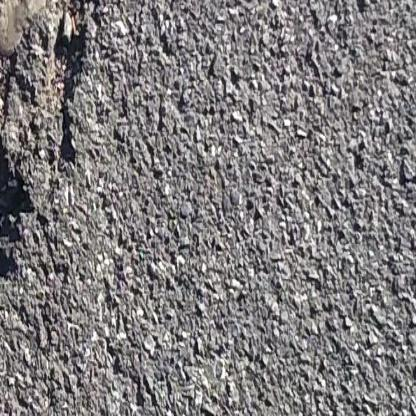Cracks: (50, 0, 114, 172), (0, 129, 36, 342), (0, 23, 44, 129)
